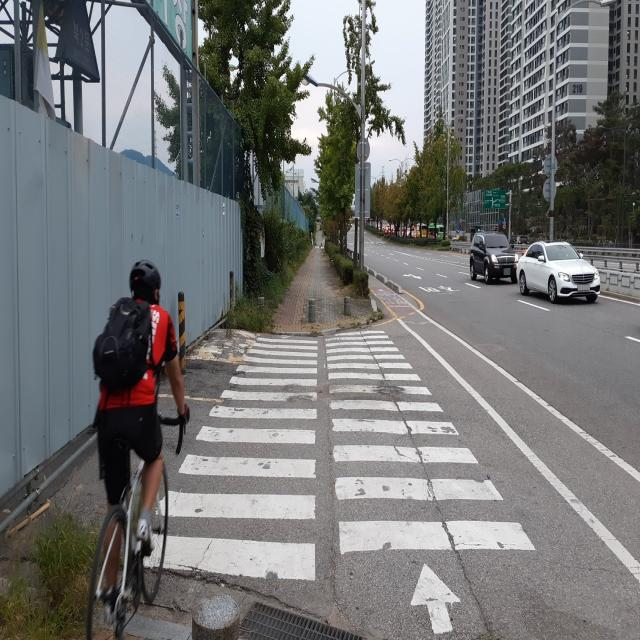횡단보도: (142, 330, 538, 634)
